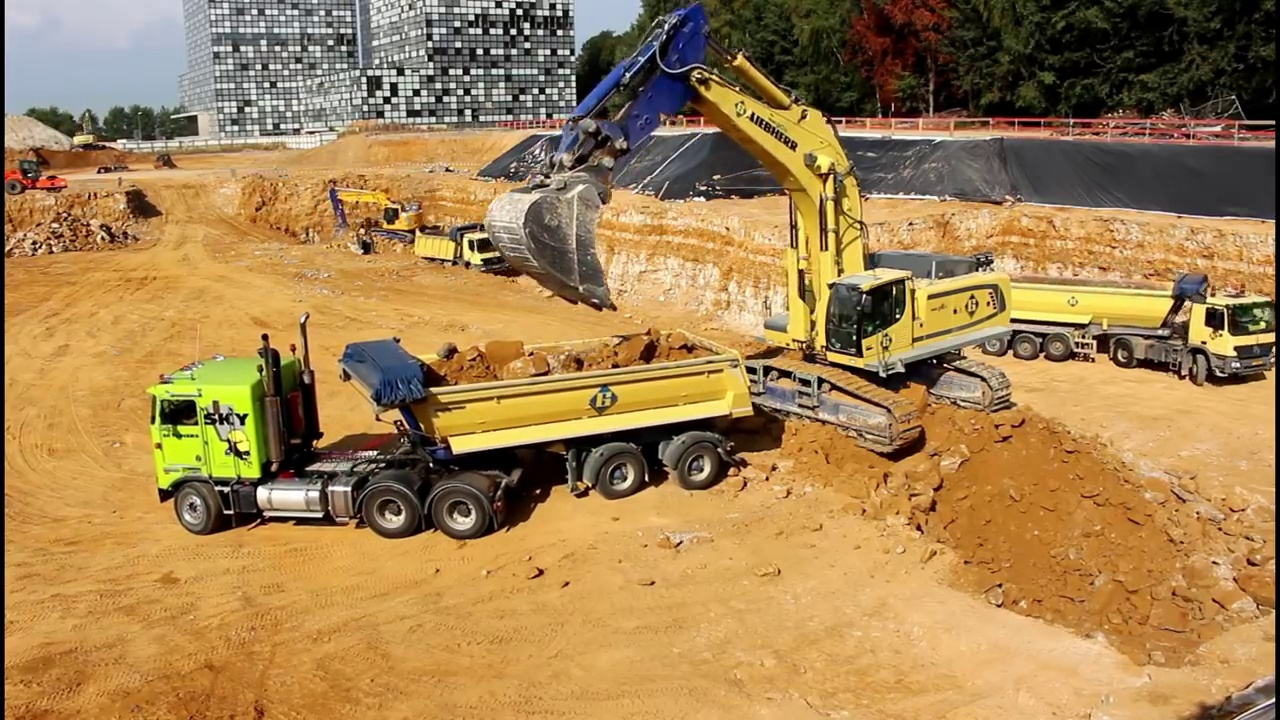compactor: (4, 157, 68, 198)
excavator: (480, 2, 1016, 459), (322, 178, 436, 258), (66, 103, 114, 158)
truck: (139, 310, 764, 547), (964, 262, 1280, 391), (414, 220, 523, 292)
